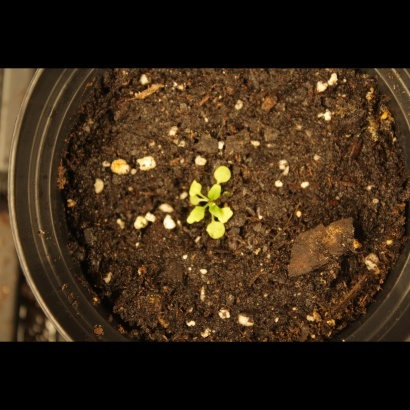leaf: (212, 162, 235, 185), (217, 199, 240, 222), (205, 219, 228, 242), (186, 204, 209, 227), (183, 179, 206, 202), (205, 181, 228, 204)
